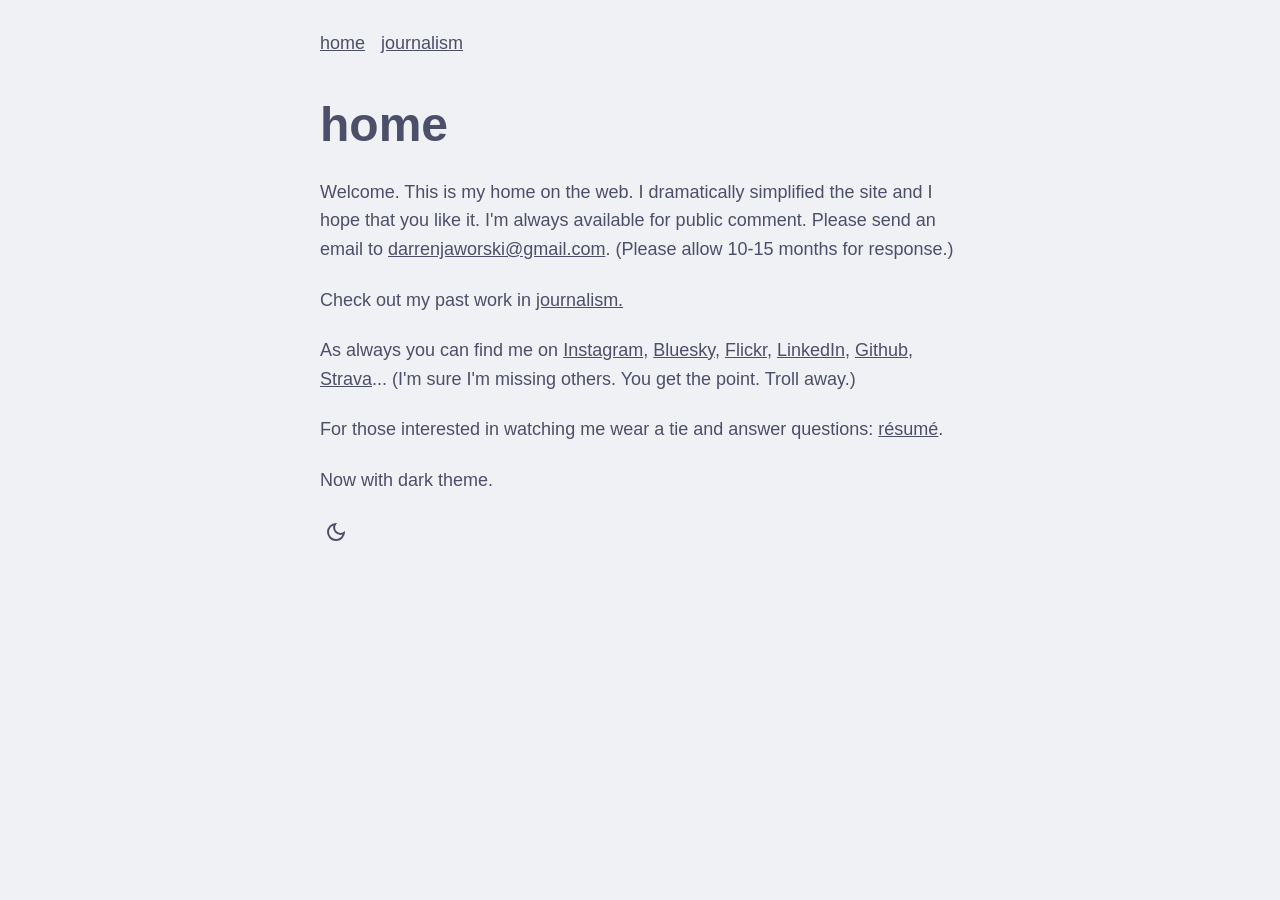
it: App › swaps the theme icon when toggled
The width and height of the screenshot is (1280, 900).
Expected: the icon with test id "dark-mode-icon" is shown, [324,520,348,544]
Step 1. Click the button named "Toggle theme" → (336, 534), box [320,516,351,553]
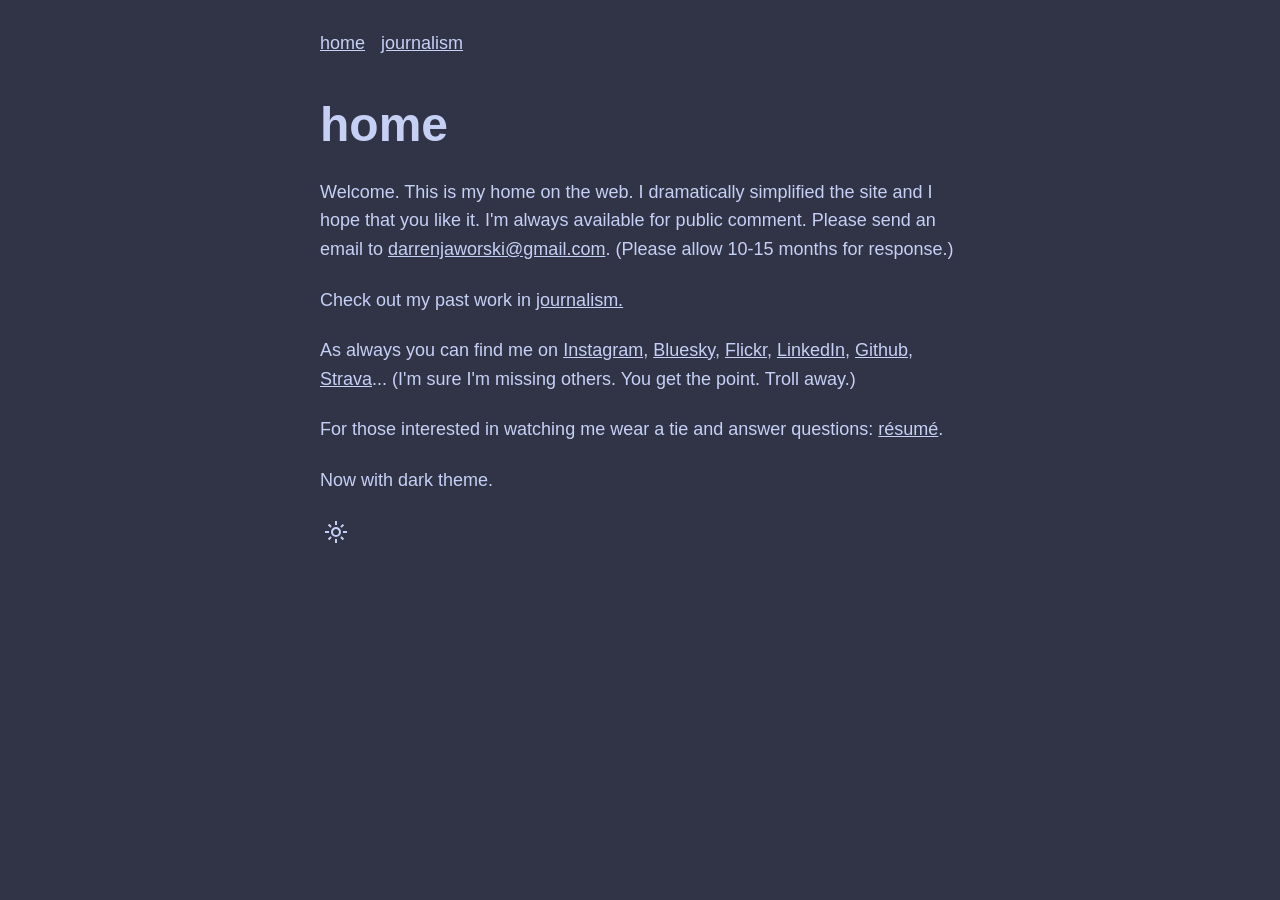
Result: the icon with test id "light-mode-icon" is shown at [324,520,348,544]
